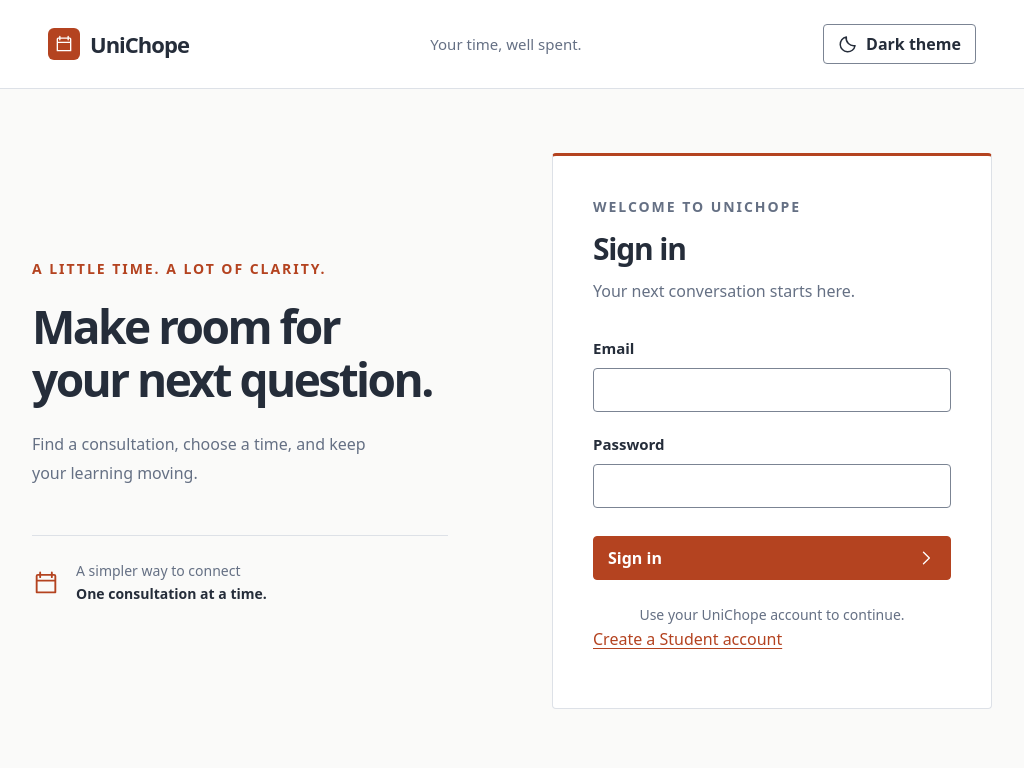
Test: FE1-LOGIN safe 401 feedback clears password without automatic replay
Type "synthetic@example.test" into the field labelled "Email" at coordinates (772, 390), box left=593, top=368, right=951, bottom=412
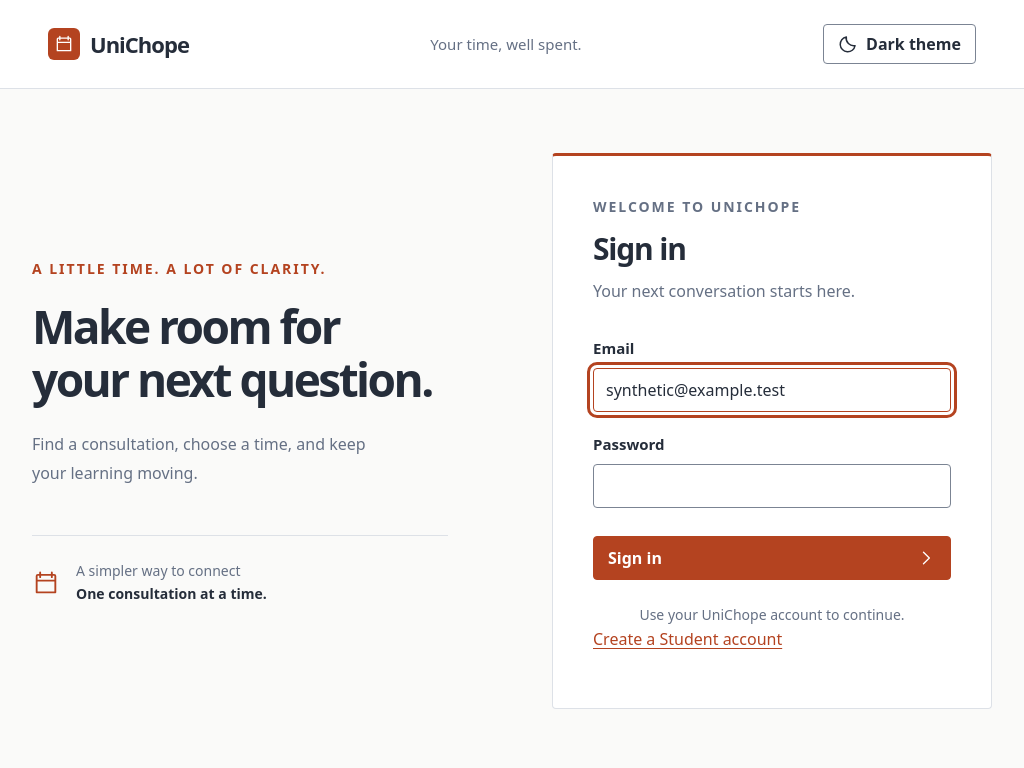
Type "Synthetic-password-12" into the password field labelled "Password" at coordinates (772, 486), box left=593, top=464, right=951, bottom=508
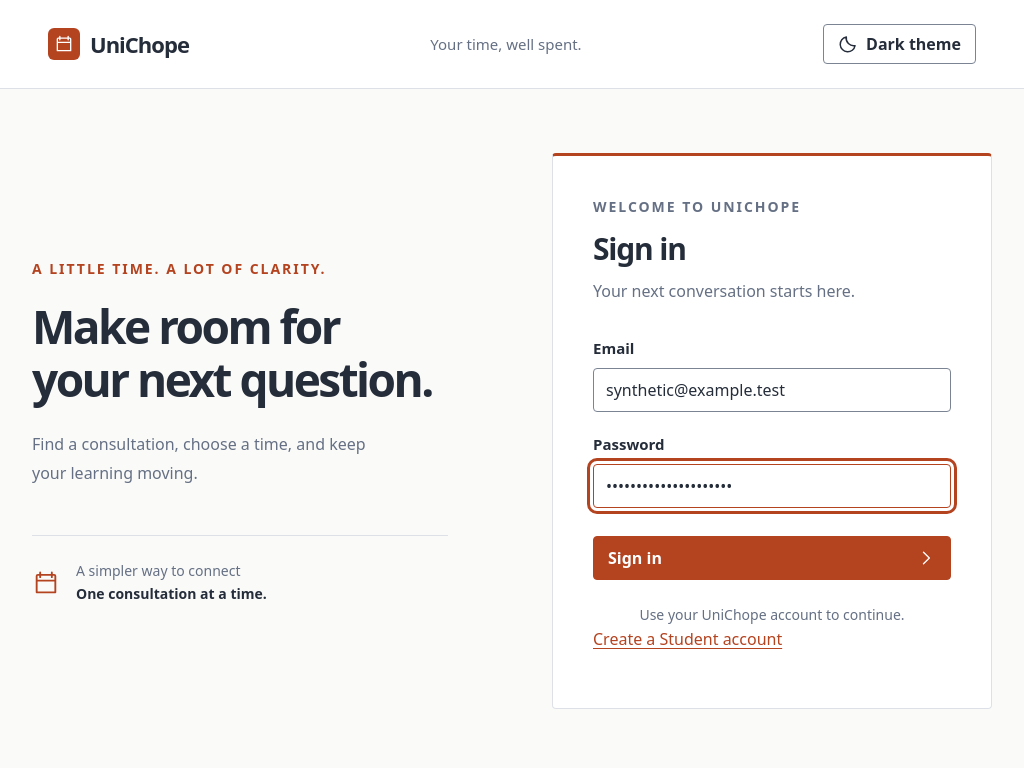
Click the button "Sign in" at coordinates (635, 558), box left=593, top=536, right=951, bottom=580
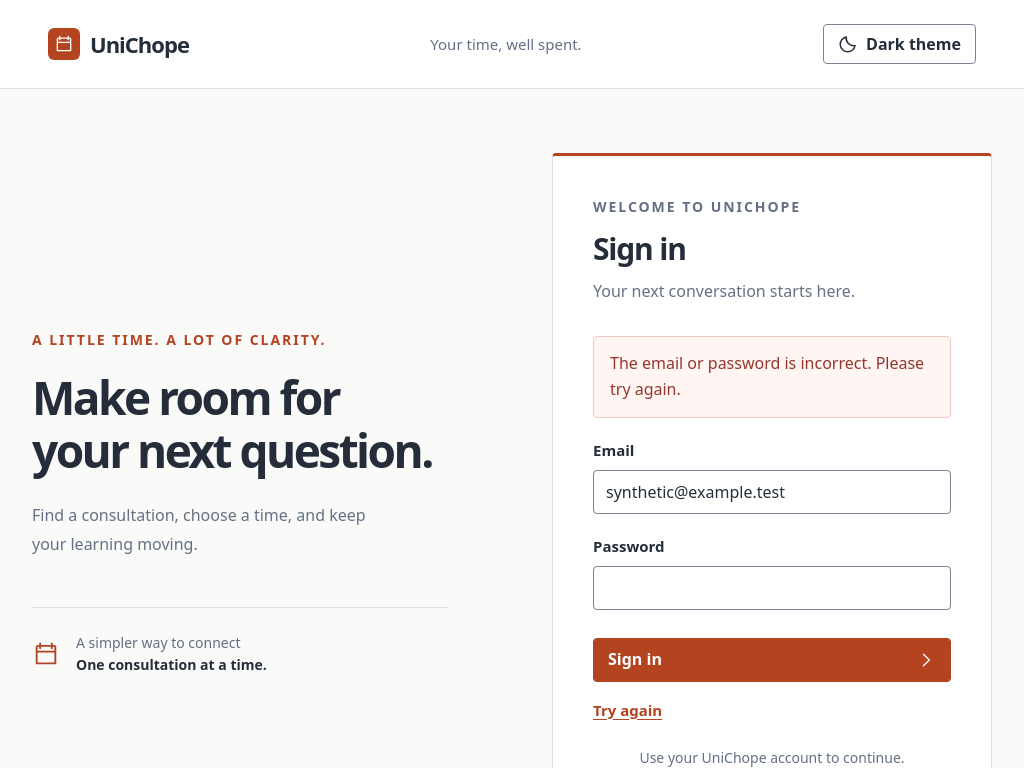
Expected: the message reads "The email or password is incorrect. Please try again.", left=610, top=352, right=924, bottom=400
Expected: the password field labelled "Password" is empty, left=593, top=566, right=951, bottom=610
